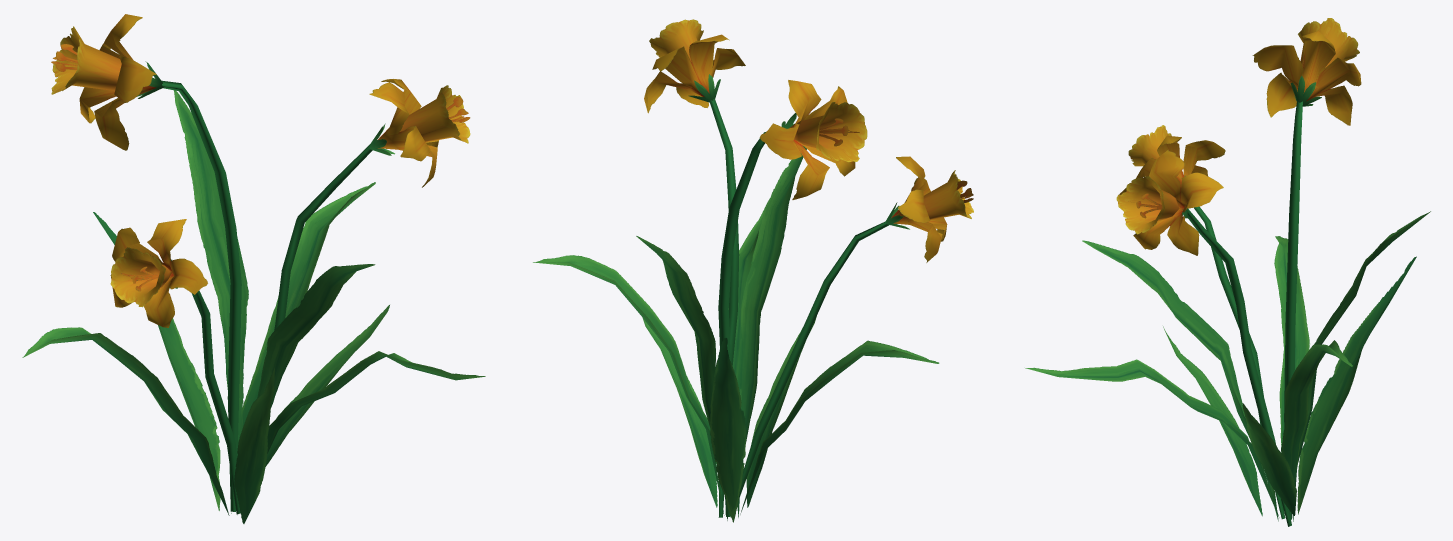
Rendered from MSH_FWOF_Flower_Large_A_01.fbx.
3 views of the same model, side by side, from view 1: azimuth 30°, elevation 25°; view 2: azimuth 150°, elevation 25°; view 3: azimuth 270°, elevation 25° (orthographic). The views are drawn at different scales.
Parts seen in each view (by area): view 1: MSH_FWOF_Flower_Large_A_01; view 2: MSH_FWOF_Flower_Large_A_01; view 3: MSH_FWOF_Flower_Large_A_01.
Boxes of the visible parts, bbox=[...] form: MSH_FWOF_Flower_Large_A_01: bbox=[22, 14, 485, 523]; MSH_FWOF_Flower_Large_A_01: bbox=[533, 19, 973, 522]; MSH_FWOF_Flower_Large_A_01: bbox=[1025, 18, 1430, 526].
Size of the model in its own units: 0.5521 by 0.6526 by 0.5537.
